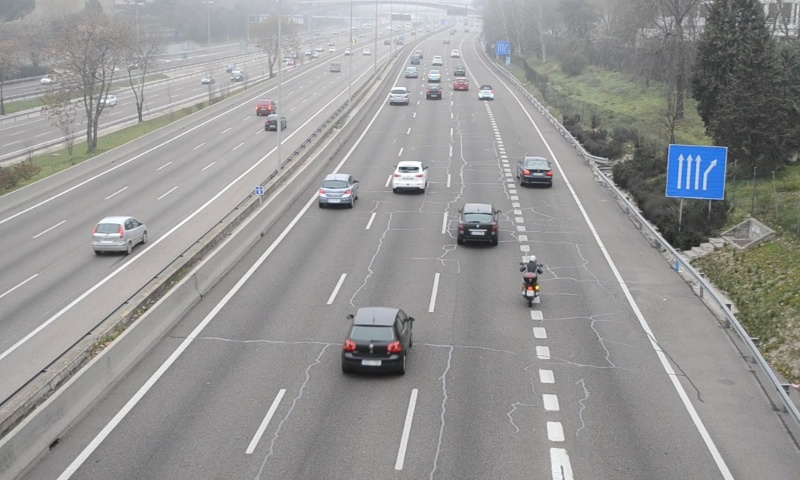car: (342, 308, 412, 374), (456, 204, 498, 244), (318, 173, 358, 206), (391, 161, 429, 190), (517, 156, 553, 186), (388, 86, 410, 106), (478, 83, 494, 101), (426, 84, 441, 100)
motorcycle: (518, 255, 545, 308)
